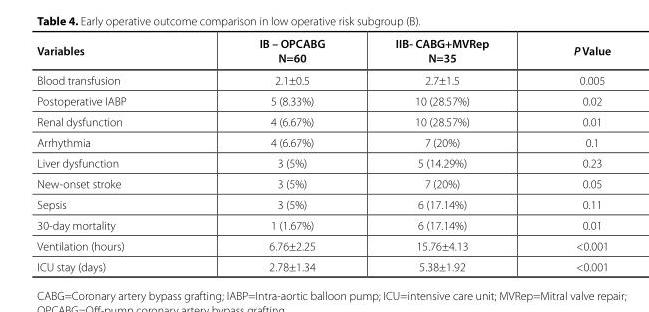table: (36, 36, 610, 273)
table column: (359, 36, 530, 273), (192, 36, 359, 273), (36, 36, 192, 273), (530, 36, 610, 273)
table column header: (36, 36, 610, 68)
table row: (36, 36, 610, 68), (36, 68, 610, 90), (36, 90, 610, 111), (36, 131, 610, 152), (36, 152, 610, 173), (36, 193, 610, 214), (36, 214, 610, 235), (36, 235, 610, 256), (36, 111, 610, 131), (36, 173, 610, 193), (36, 256, 610, 273)
